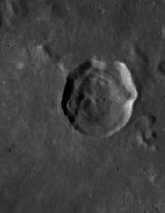crater: (48, 43, 147, 168)
